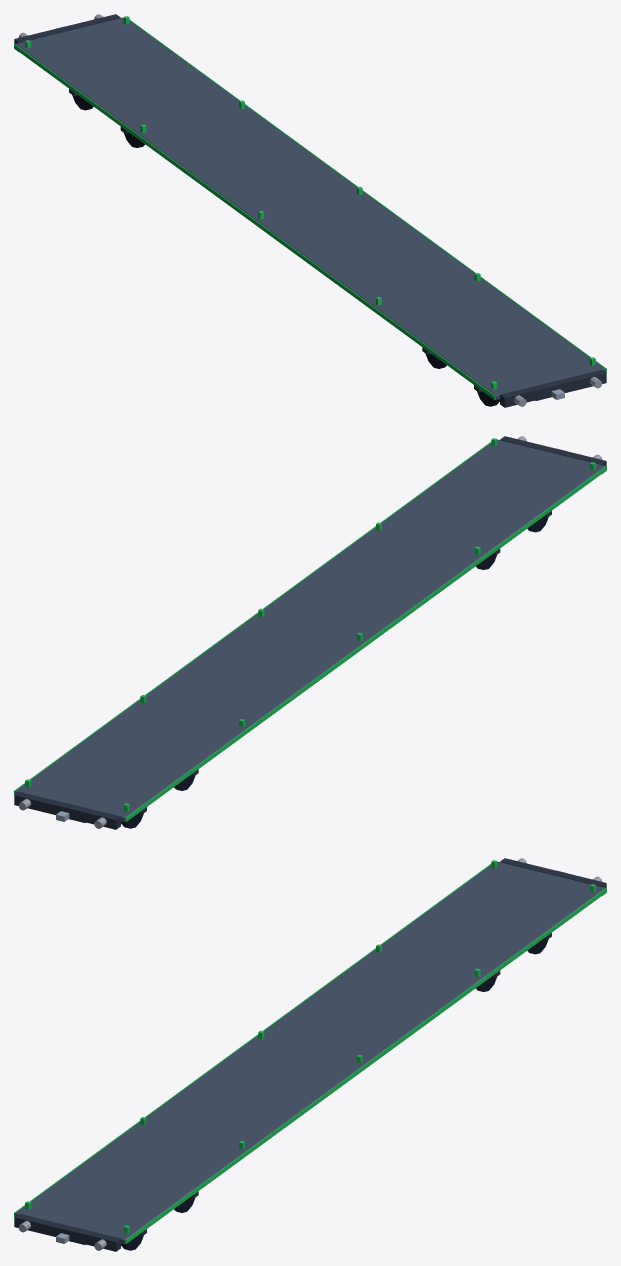
File: koki_wagon.glb
3 renders of one model, top to bottom at view 1: azimuth 30°, elevation 25°; view 2: azimuth 150°, elevation 25°; view 3: azimuth 330°, elevation 25°, orthographic.
Parts seen in each view (by area): view 1: koki_wagon; view 2: koki_wagon; view 3: koki_wagon.
Boxes of the visible parts, left/top/right/bottom form: koki_wagon: left=14, top=14, right=606, bottom=407; koki_wagon: left=14, top=436, right=606, bottom=829; koki_wagon: left=14, top=858, right=606, bottom=1251.
Bounding box in the file's own units: 2.64 × 1.14 × 20.4.
